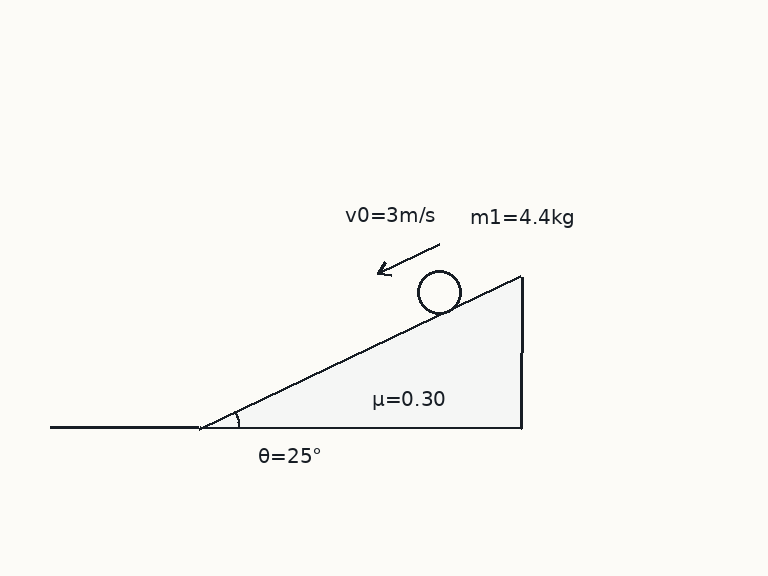ball: (415, 268, 463, 316)
ramp: (197, 276, 524, 430)
